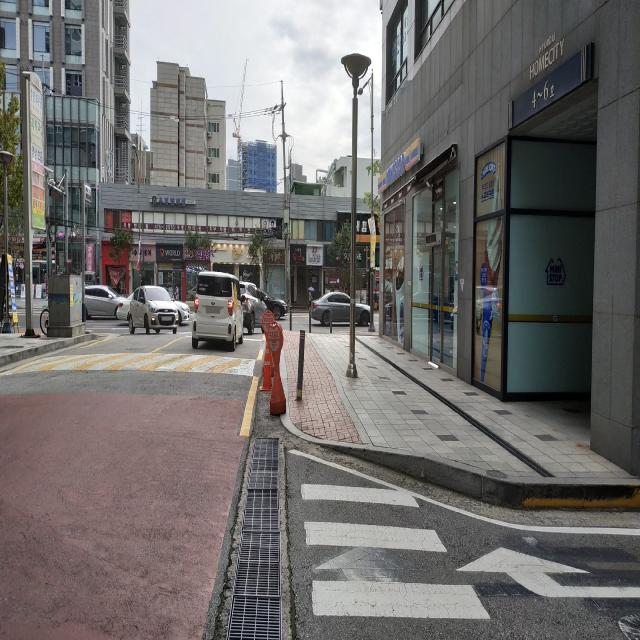횡단보도: (299, 482, 493, 622)
